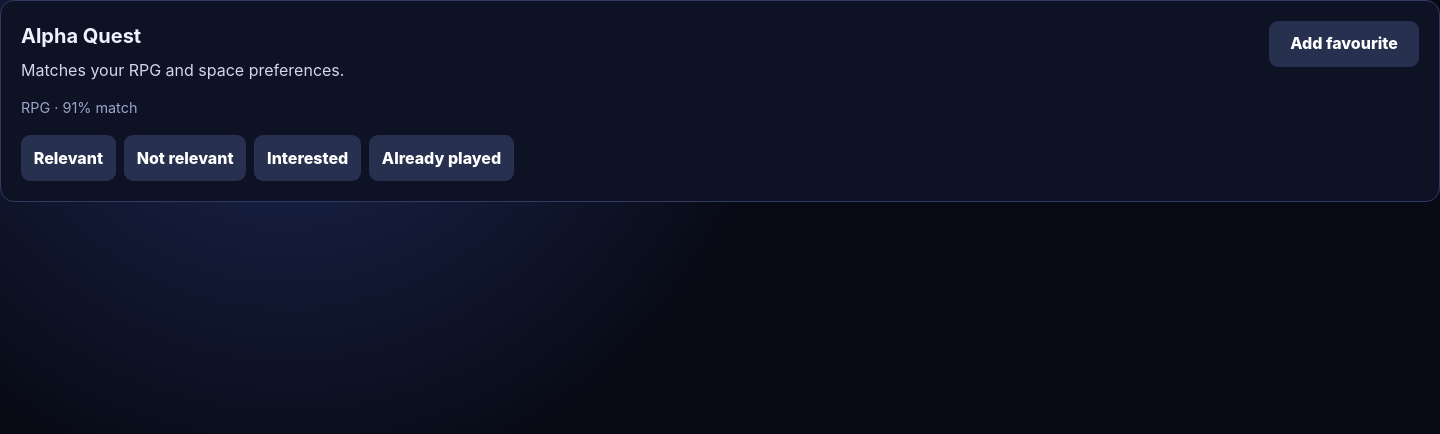
Test: user activity UI › rolls back an optimistic favourite when the API fails
Click the button with aria-label "Add Alpha Quest to favourites". click: (1344, 44)
box: x1=1269 y1=21 x2=1419 y2=67
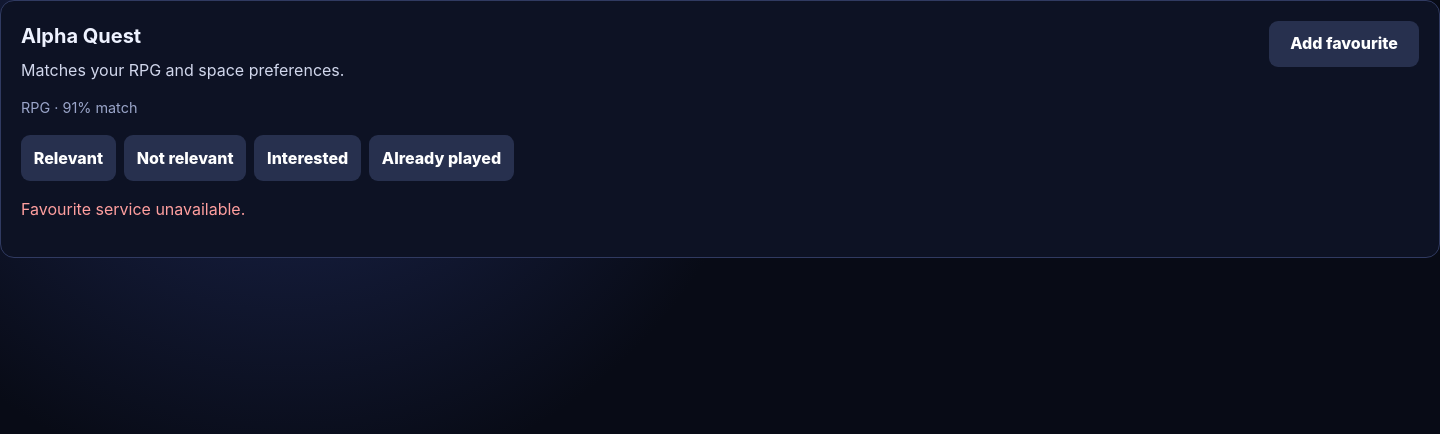
Now the message shows "Favourite service unavailable", box x1=21 y1=199 x2=245 y2=219
